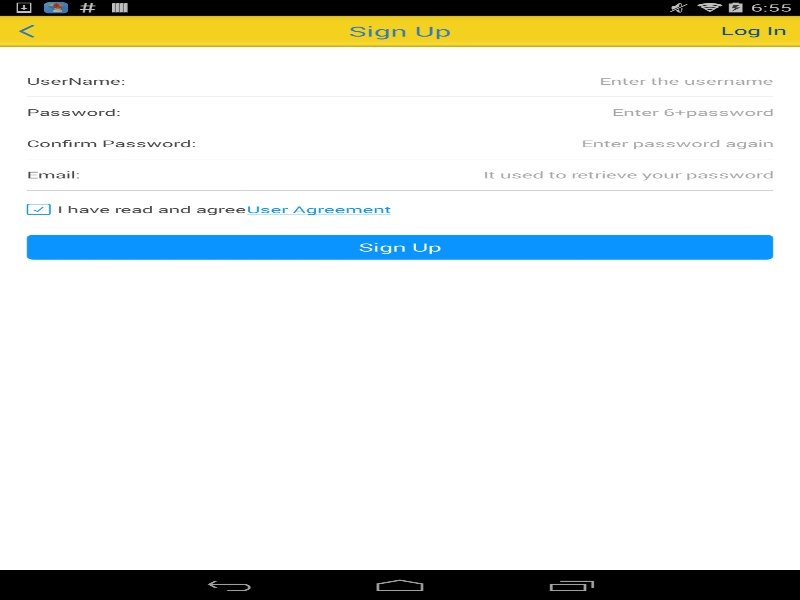Input: (93, 159, 773, 190), (120, 96, 773, 127), (125, 65, 773, 96), (196, 128, 773, 159)
